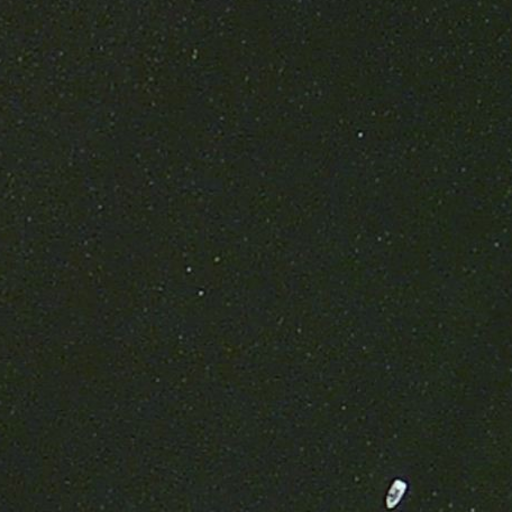ship: (382, 476, 410, 511)
